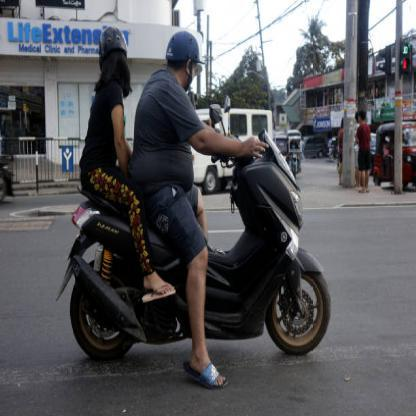Motorcycle: (59, 128, 333, 367)
